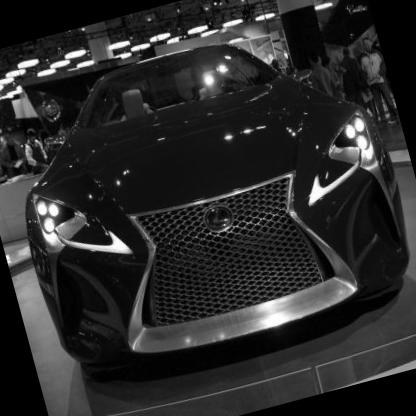car: (1, 1, 416, 399)
